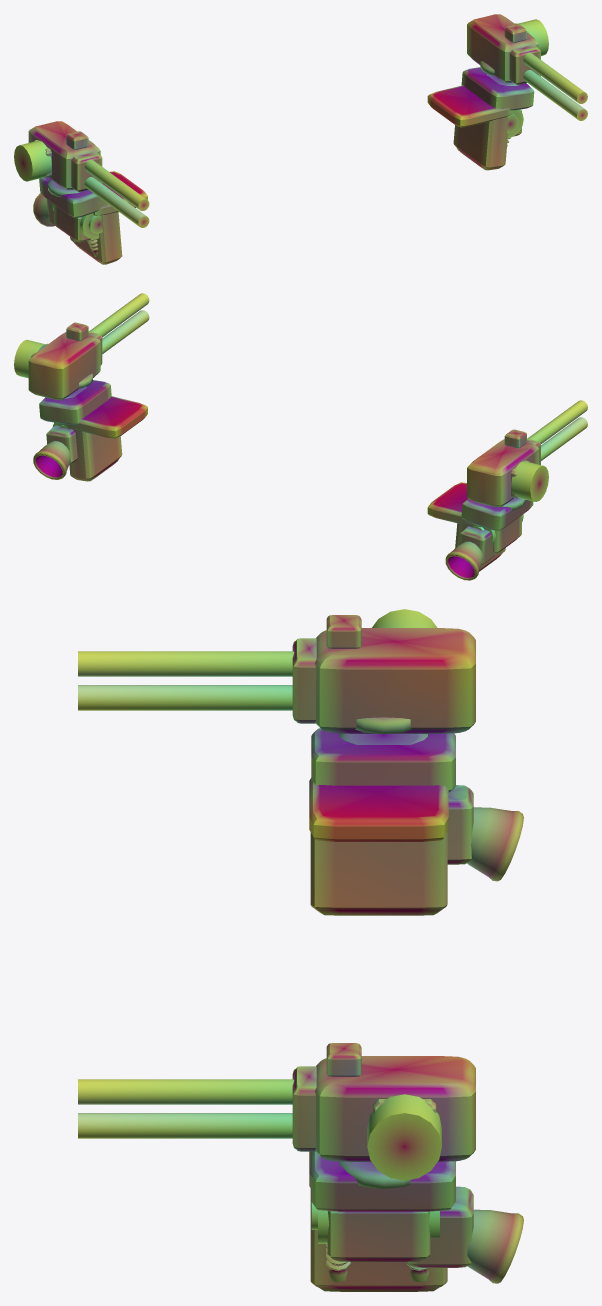
The model's file is llm_gen_shoulder_pods_022_f0a3bd.glb.
3 views of the same model, one above another, from view 1: azimuth 30°, elevation 25°; view 2: azimuth 150°, elevation 25°; view 3: azimuth 270°, elevation 25° (orthographic). The views are drawn at different scales.
Parts seen in each view (by area): view 1: adapter_shoulder_yoke_r, adapter_shoulder_yoke_l, turret_breech_2_cobalt_anodized_r, turret_breech_2_cobalt_anodized_l, turret_adapter_base_0_adapter_dark_r, ciws_drum_mag_5_amber_optic_l, turret_adapter_base_0_adapter_dark_l, ciws_barrel_top_6_barrel_metal_r, ciws_barrel_top_6_barrel_metal_l, ciws_barrel_bot_7_barrel_metal_r, ciws_barrel_bot_7_barrel_metal_l, adapter_sub_ciws_shroud_dark_3_adapter_dark_r (+5 smaller); view 2: adapter_shoulder_yoke_r, turret_breech_2_cobalt_anodized_r, turret_breech_2_cobalt_anodized_l, adapter_shoulder_yoke_l, turret_adapter_base_0_adapter_dark_r, turret_adapter_base_0_adapter_dark_l, ciws_drum_mag_5_amber_optic_l, addon_sh_vernier_10_vernier_bell_vernier_l, addon_sh_vernier_10_vernier_bell_vernier_r, ciws_barrel_top_6_barrel_metal_r, ciws_barrel_top_6_barrel_metal_l, ciws_barrel_bot_7_barrel_metal_r (+4 smaller); view 3: adapter_shoulder_yoke_l, turret_breech_2_cobalt_anodized_l, turret_breech_2_cobalt_anodized_r, adapter_shoulder_yoke_r, turret_adapter_base_0_adapter_dark_l, ciws_barrel_top_6_barrel_metal_r, ciws_barrel_top_6_barrel_metal_l, ciws_barrel_bot_7_barrel_metal_r, ciws_barrel_bot_7_barrel_metal_l, turret_adapter_base_0_adapter_dark_r, ciws_drum_mag_5_amber_optic_r, addon_sh_vernier_10_vernier_bell_vernier_r (+10 smaller).
Boxes of the visible parts, x1,y1,x2,y2 form: adapter_shoulder_yoke_r: (427,85,523,170); adapter_shoulder_yoke_l: (52,171,147,264); turret_breech_2_cobalt_anodized_r: (467,14,538,82); turret_breech_2_cobalt_anodized_l: (28,121,100,189); turret_adapter_base_0_adapter_dark_r: (461,67,534,110); ciws_drum_mag_5_amber_optic_l: (14,140,51,181); turret_adapter_base_0_adapter_dark_l: (39,177,108,217); ciws_barrel_top_6_barrel_metal_r: (523,53,587,103); ciws_barrel_top_6_barrel_metal_l: (84,160,149,210); ciws_barrel_bot_7_barrel_metal_r: (523,70,587,120); ciws_barrel_bot_7_barrel_metal_l: (84,177,149,227); adapter_sub_ciws_shroud_dark_3_adapter_dark_r: (509,44,540,84); adapter_shoulder_yoke_r: (52,396,147,481); turret_breech_2_cobalt_anodized_r: (28,332,100,399); turret_breech_2_cobalt_anodized_l: (467,439,538,506); adapter_shoulder_yoke_l: (427,482,523,571); turret_adapter_base_0_adapter_dark_r: (39,380,111,424); turret_adapter_base_0_adapter_dark_l: (461,498,533,530); ciws_drum_mag_5_amber_optic_l: (511,461,548,501); addon_sh_vernier_10_vernier_bell_vernier_l: (445,541,483,580); addon_sh_vernier_10_vernier_bell_vernier_r: (33,441,70,479); ciws_barrel_top_6_barrel_metal_r: (89,293,149,337); ciws_barrel_top_6_barrel_metal_l: (527,400,587,443); ciws_barrel_bot_7_barrel_metal_r: (102,310,149,353); adapter_shoulder_yoke_l: (309,778,448,915); turret_breech_2_cobalt_anodized_l: (315,628,475,733); turret_breech_2_cobalt_anodized_r: (315,1056,475,1161); adapter_shoulder_yoke_r: (309,1151,447,1291); turret_adapter_base_0_adapter_dark_l: (311,728,455,792); ciws_barrel_top_6_barrel_metal_r: (78,1079,294,1104); ciws_barrel_top_6_barrel_metal_l: (78,651,294,676); ciws_barrel_bot_7_barrel_metal_r: (78,1113,292,1138); ciws_barrel_bot_7_barrel_metal_l: (78,685,292,710); turret_adapter_base_0_adapter_dark_r: (311,1151,455,1211); ciws_drum_mag_5_amber_optic_r: (367,1094,441,1180); addon_sh_vernier_10_vernier_bell_vernier_r: (467,1209,523,1283).
Bounding box in the file's own units: 111 × 27.08 × 41.67.
